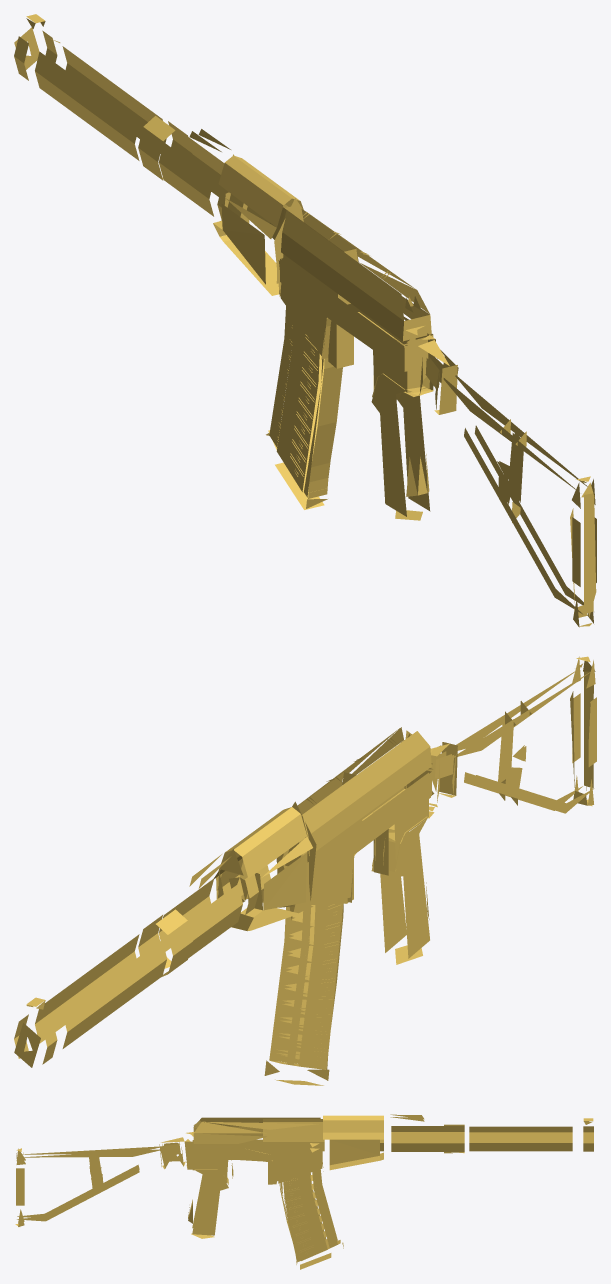
File: charm_mst_fusil_16.glb
3 renders of one model, top to bottom at view 1: azimuth 30°, elevation 25°; view 2: azimuth 150°, elevation 25°; view 3: azimuth 270°, elevation 25°, orthographic. The views are drawn at different scales.
Visible parts, largest first — view 1: p0_paint; view 2: p0_paint; view 3: p0_paint.
Part boxes in pixels (x1=…): p0_paint: x1=14, y1=14, x2=596, y2=627; p0_paint: x1=14, y1=656, x2=596, y2=1085; p0_paint: x1=15, y1=1114, x2=593, y2=1269.
Bounding box in the file's own units: 0.0494 × 0.2536 × 0.8744.
